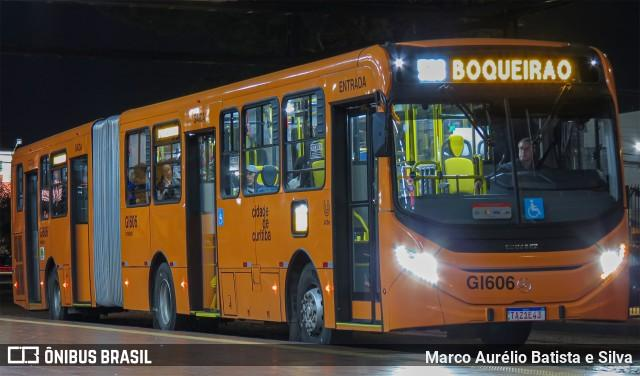BOQUEIRAO: (448, 55, 577, 84)
